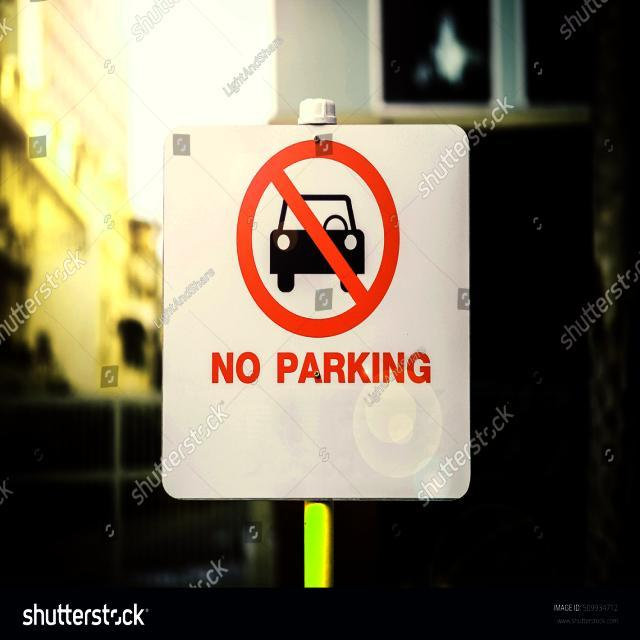Traffic sign: (156, 117, 478, 505)
